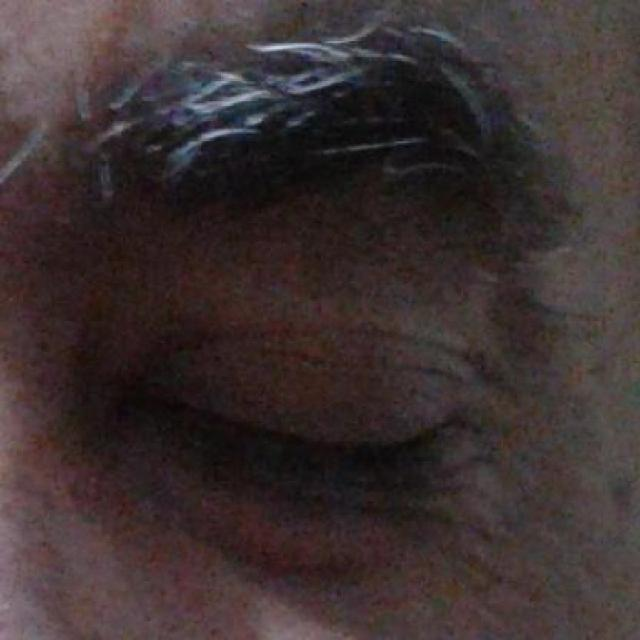drowsy: (103, 314, 471, 558)
